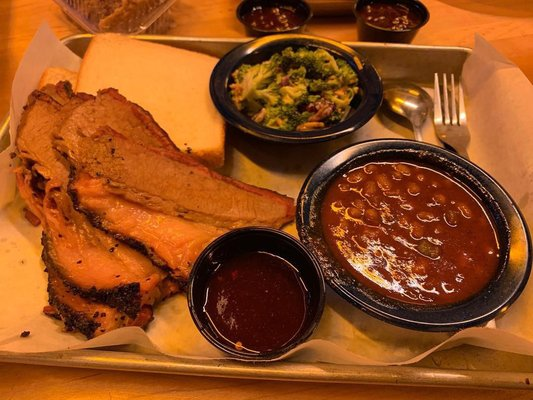soup: (10, 78, 298, 338)
sushi: (293, 138, 532, 331), (209, 33, 383, 144), (187, 226, 328, 362), (56, 0, 178, 35), (354, 0, 430, 44), (236, 0, 314, 37)
